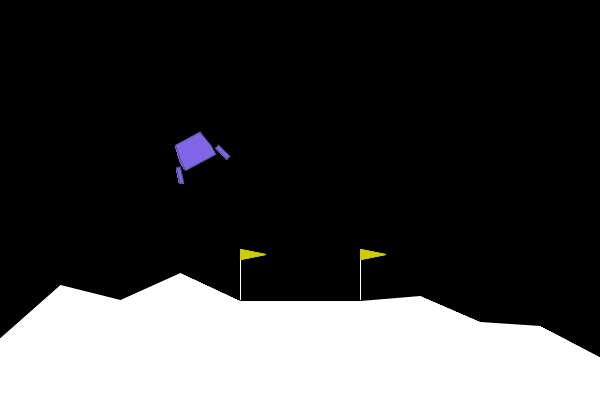lander: (160, 123, 232, 187)
